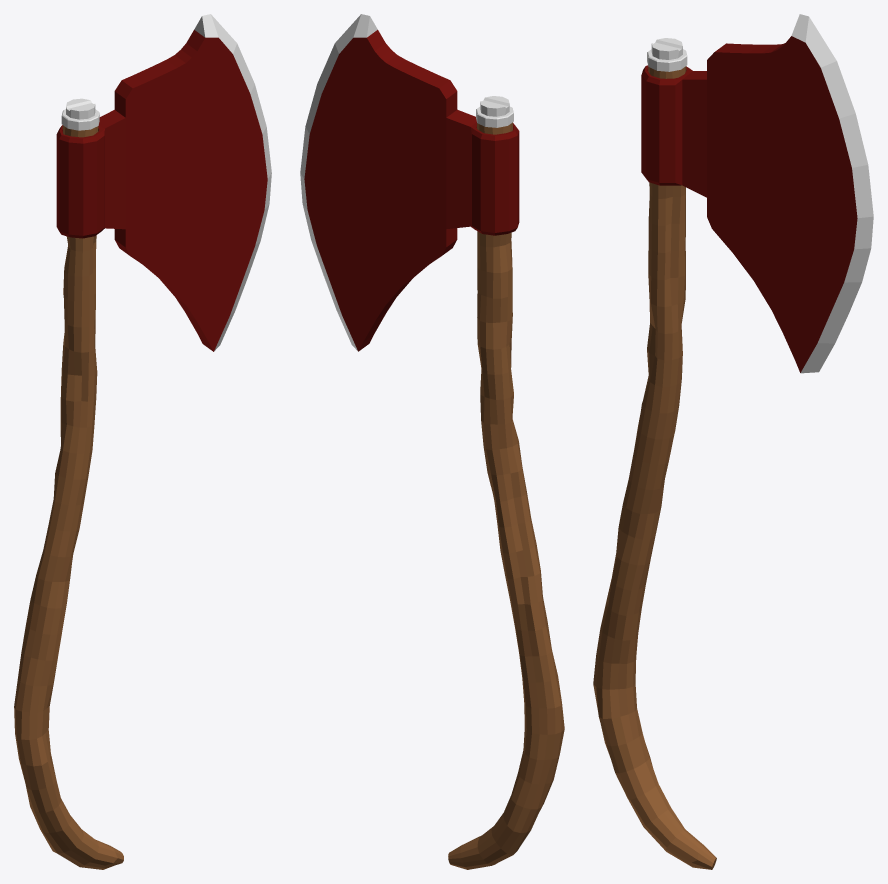
File: balta.fbx
The picture shows the model from 3 angles, left to right: view 1: azimuth 30°, elevation 25°; view 2: azimuth 150°, elevation 25°; view 3: azimuth 330°, elevation 25°; orthographic projection. The views are drawn at different scales.
Parts seen in each view (by area): view 1: NurbsPath.008, Retopo_NurbsPath.002; view 2: NurbsPath.008, Retopo_NurbsPath.002; view 3: NurbsPath.008, Retopo_NurbsPath.002.
Part boxes in pixels (x1,y1,x2,y2): NurbsPath.008: (56,14,271,351); Retopo_NurbsPath.002: (14,125,123,869); NurbsPath.008: (300,14,519,351); Retopo_NurbsPath.002: (448,122,564,869); NurbsPath.008: (641,14,873,373); Retopo_NurbsPath.002: (593,66,716,869).
Bounding box in the file's own units: 161 × 493 × 25.85.
